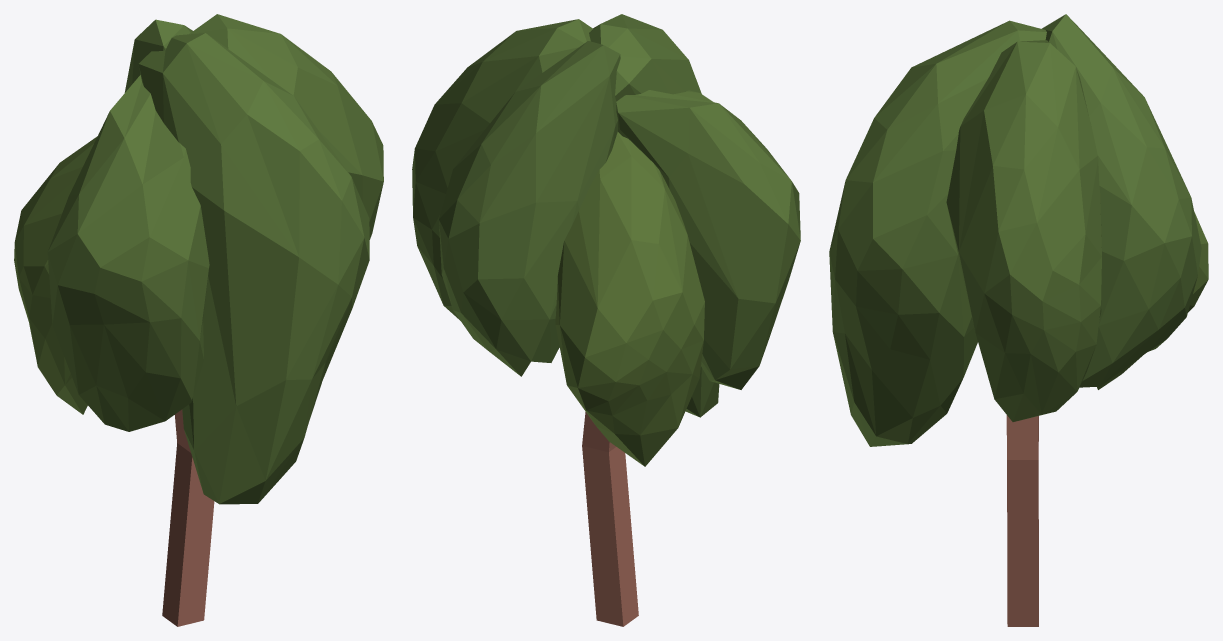
The model's file is tree01.fbx.
The picture shows the model from 3 angles, left to right: view 1: azimuth 30°, elevation 25°; view 2: azimuth 150°, elevation 25°; view 3: azimuth 270°, elevation 25°; orthographic projection. The views are drawn at different scales.
Parts seen in each view (by area): view 1: Tree01; view 2: Tree01; view 3: Tree01.
Part boxes in pixels (left/top/right/bottom): Tree01: left=14, top=14, right=383, bottom=626; Tree01: left=412, top=14, right=800, bottom=626; Tree01: left=829, top=14, right=1208, bottom=626.
Size of the model in its own units: 349 by 560 by 320.
